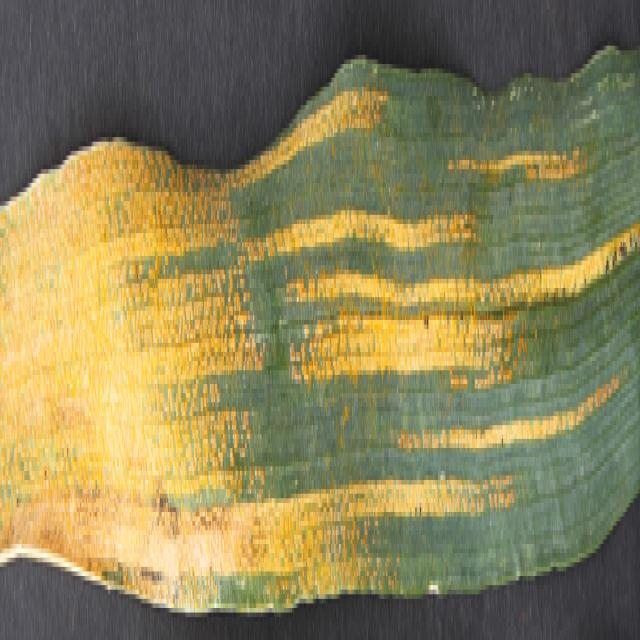leaf rust: (0, 87, 640, 599)
